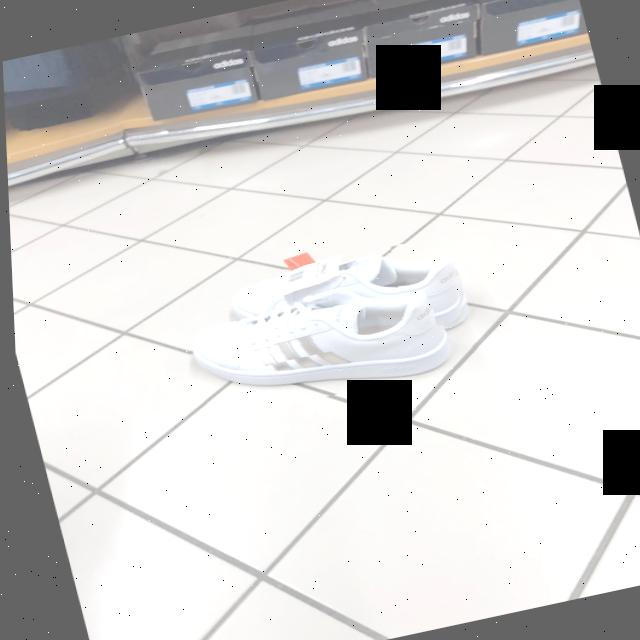shoe: (189, 264, 466, 389), (230, 256, 460, 326)
